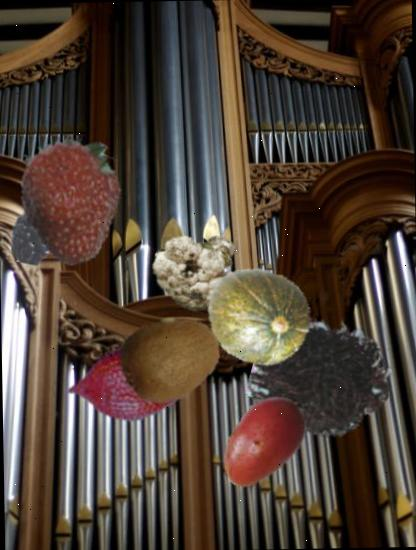Cauliflower: (152, 221, 251, 320)
Kiwi: (118, 306, 224, 412)
Melon: (204, 259, 318, 373)
Mulberry: (3, 196, 74, 265)
Potato: (210, 388, 316, 494)
Rambutan: (252, 302, 393, 444)
Salak: (65, 314, 205, 453)
Strawberry: (9, 134, 140, 264)
